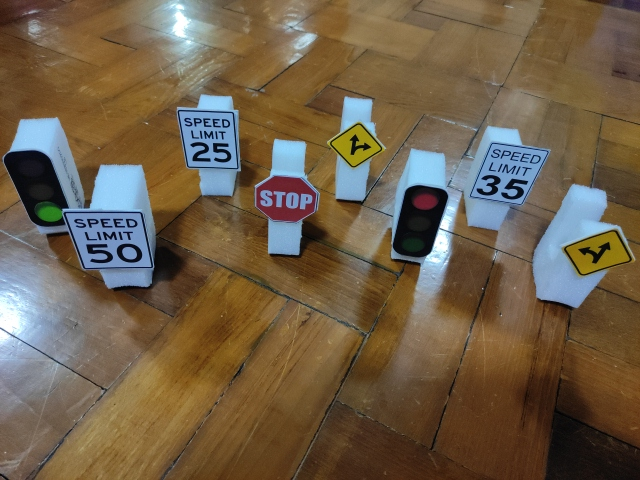Green Traffic Light: (2, 150, 69, 227)
Red Traffic Light: (392, 182, 448, 256)
Speed Limit 25: (175, 105, 242, 172)
Speed Limit 35: (470, 141, 552, 207)
Speed Limit 50: (62, 209, 155, 271)
Stop Sign: (254, 173, 321, 224)
Straight Or Left Sign: (562, 228, 633, 278)
Straight Or Right Sign: (329, 123, 384, 168)
